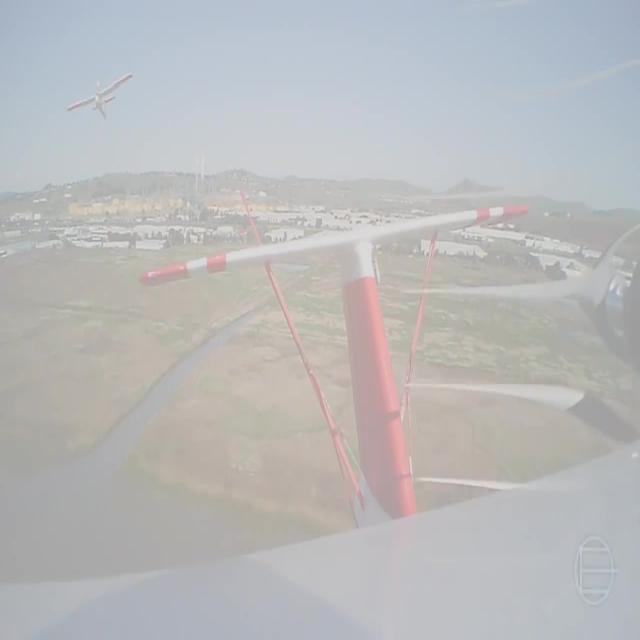iha: (35, 8, 37, 57)
